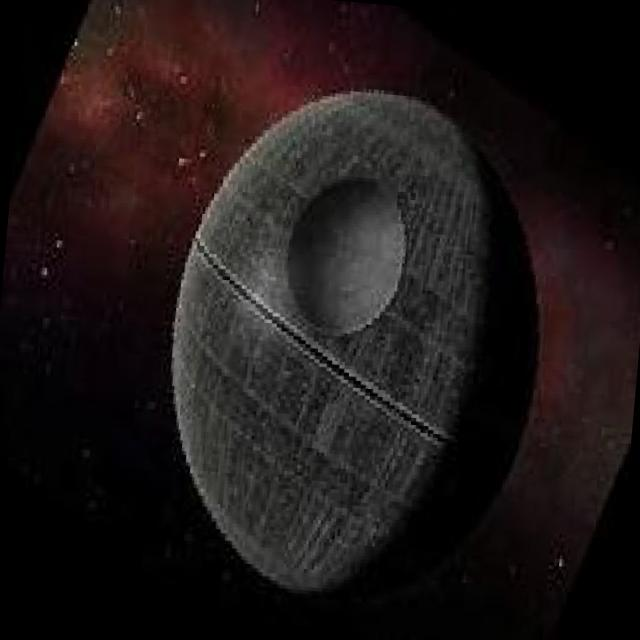Death Star: (146, 64, 582, 622)
